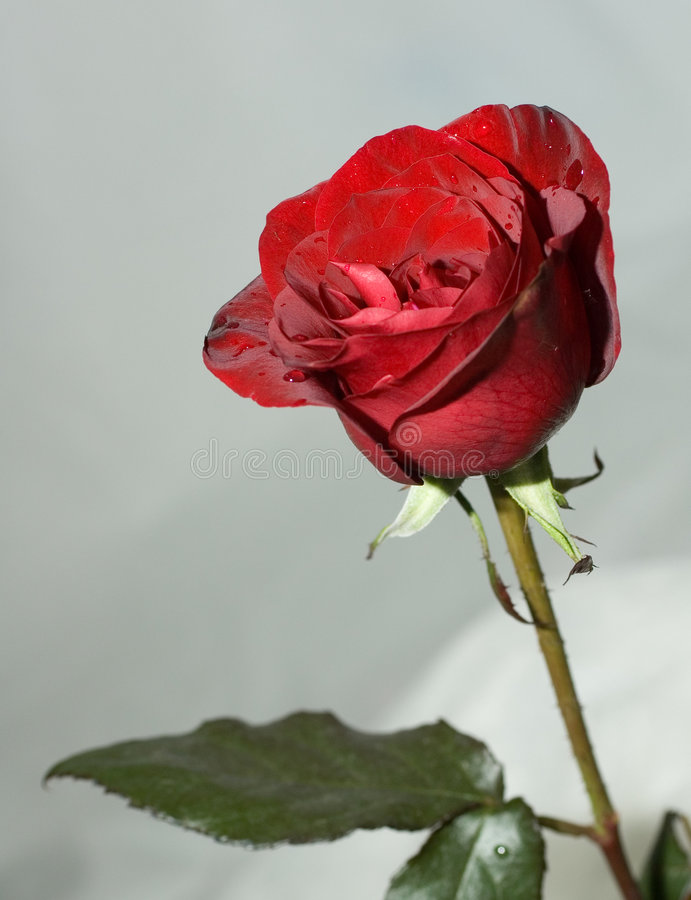RedRose: (201, 77, 635, 525)
